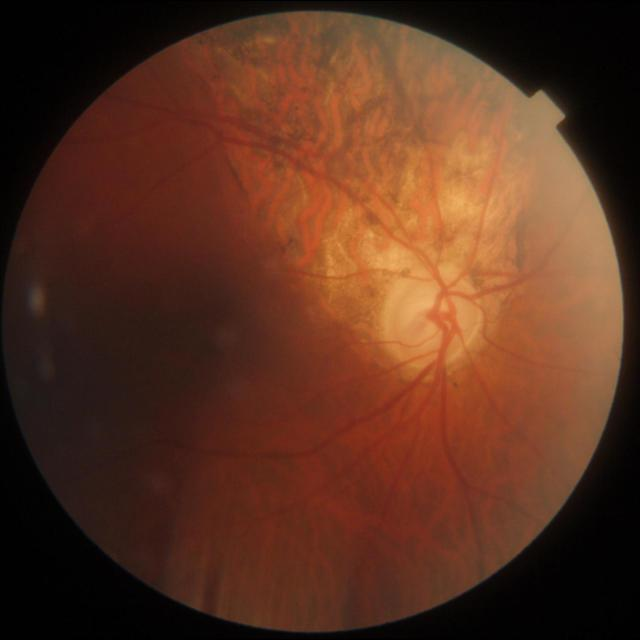OD: (385, 270, 481, 368)
